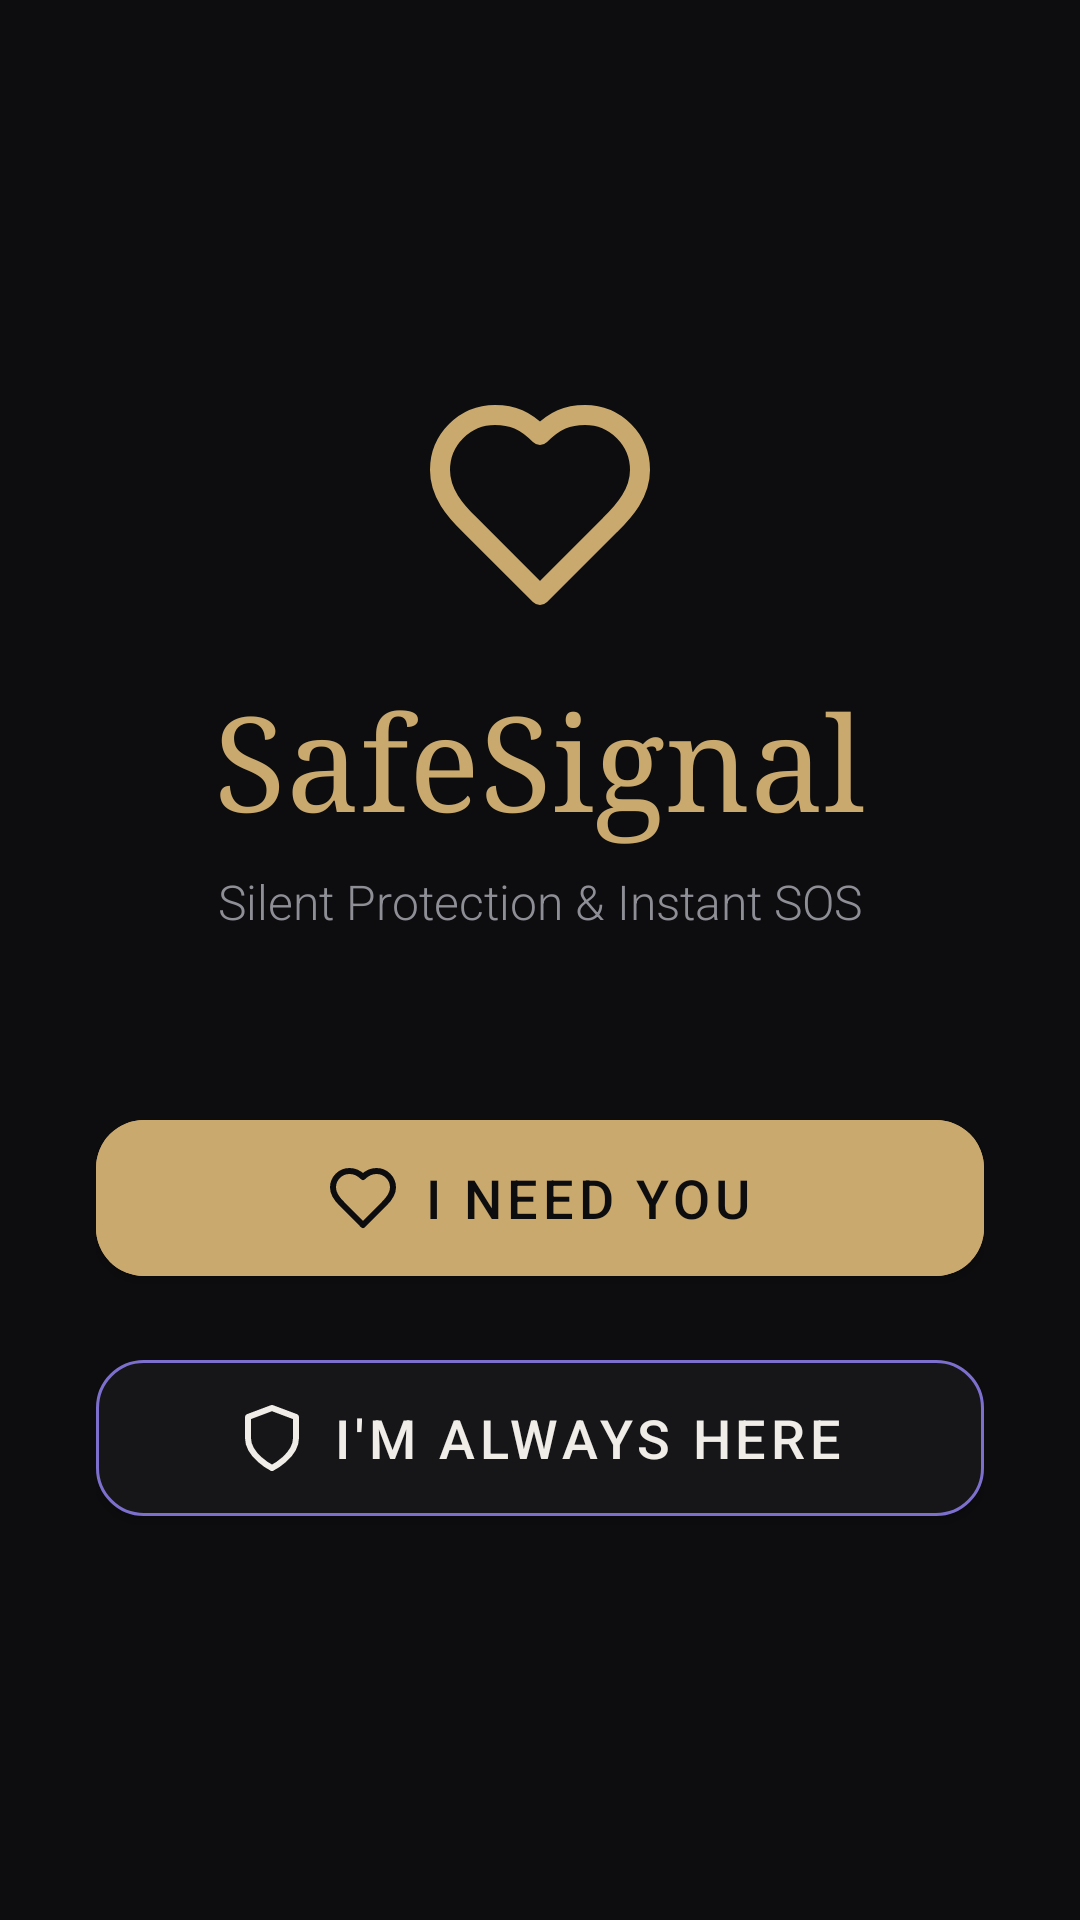

Where to tap for icons on this 1080 × 1920 app screen, as (x=x, y=y):
heart vlynxly: (x=540, y=505)
